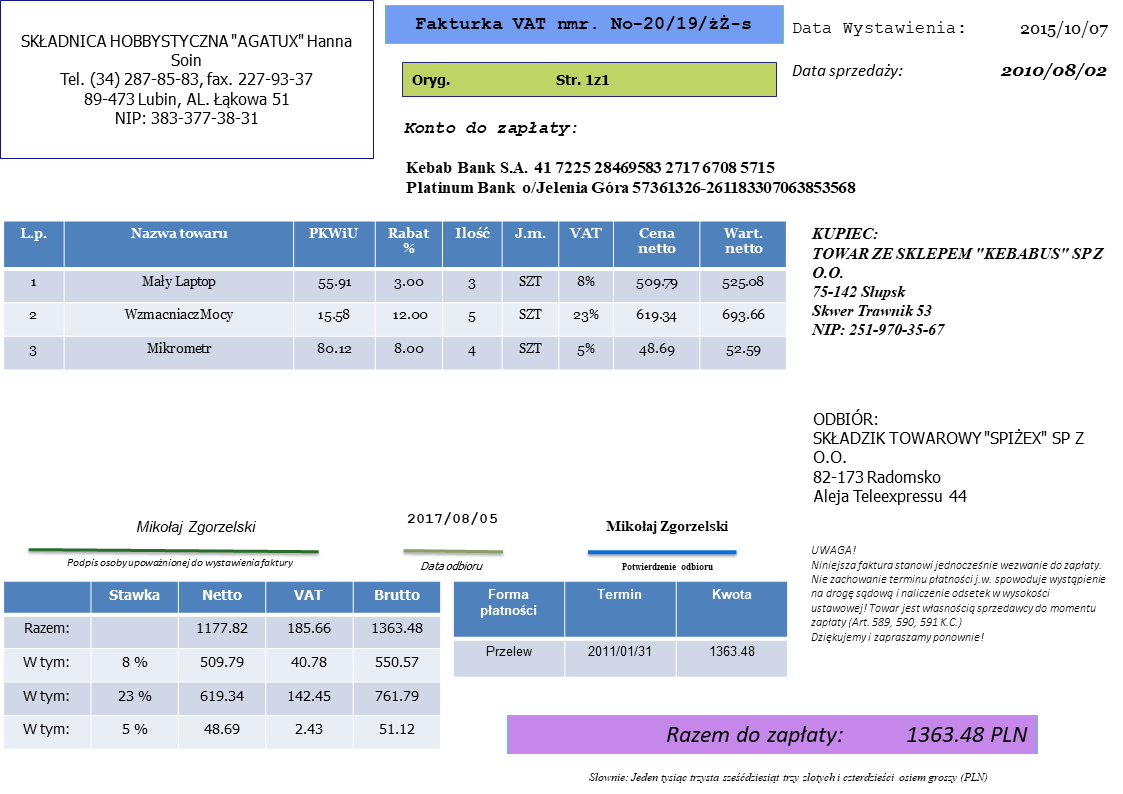Table: (2, 220, 788, 372), (1, 580, 443, 749), (451, 579, 789, 680)
TextBox: (808, 222, 1112, 341), (18, 30, 355, 131), (808, 543, 1107, 646), (810, 405, 1088, 510), (402, 157, 859, 197), (663, 721, 1030, 749), (412, 12, 755, 34), (586, 768, 991, 786), (409, 69, 612, 92), (400, 117, 581, 139), (790, 18, 966, 40), (64, 555, 297, 569), (601, 516, 731, 537), (998, 60, 1109, 84), (134, 517, 261, 537), (789, 61, 904, 82), (403, 507, 499, 530), (1017, 18, 1110, 41), (617, 559, 715, 574), (418, 558, 486, 574)
